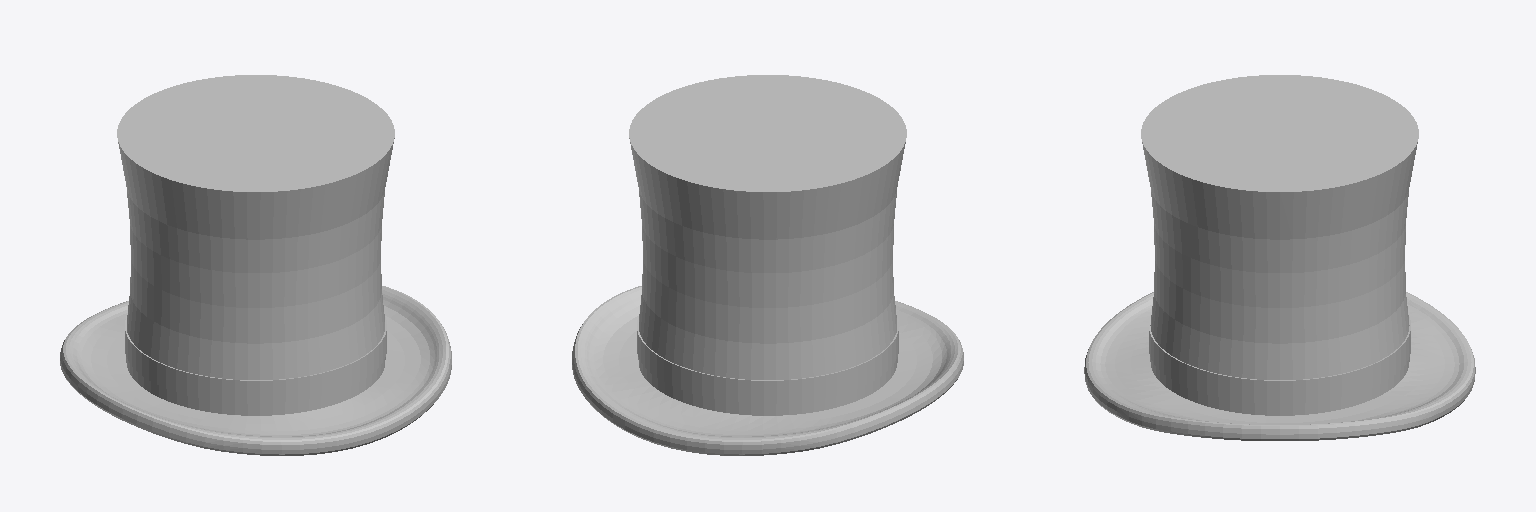
File: tophat.obj
3 renders of one model, left to right at view 1: azimuth 30°, elevation 25°; view 2: azimuth 150°, elevation 25°; view 3: azimuth 270°, elevation 25°, orthographic.
Parts seen in each view (by area): view 1: Cylinder; view 2: Cylinder; view 3: Cylinder.
Boxes of the visible parts, box(x1,y1,x2,y2) form: Cylinder: box(60, 75, 451, 455); Cylinder: box(572, 75, 963, 455); Cylinder: box(1084, 75, 1475, 440).
Size of the model in its own units: 3 by 2.07 by 3.